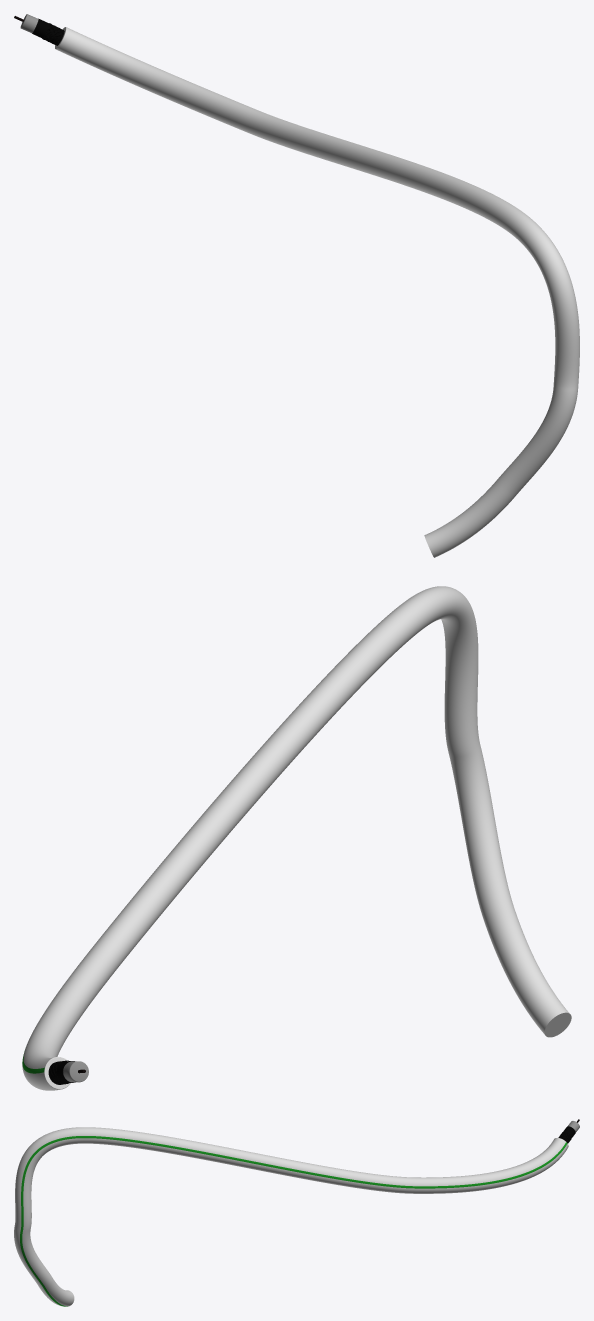
3 renders of one model, top to bottom at view 1: azimuth 30°, elevation 25°; view 2: azimuth 150°, elevation 25°; view 3: azimuth 270°, elevation 25°, orthographic. The views are drawn at different scales.
Visible parts, largest first — view 1: Line002; view 2: Line002; view 3: Line002.
Boxes of the visible parts, left/top/right/bottom form: Line002: left=55, top=27, right=579, bottom=557; Line002: left=22, top=586, right=571, bottom=1090; Line002: left=14, top=1127, right=568, bottom=1306.
Bounding box in the file's own units: 1.23 × 2.53 × 6.2.
